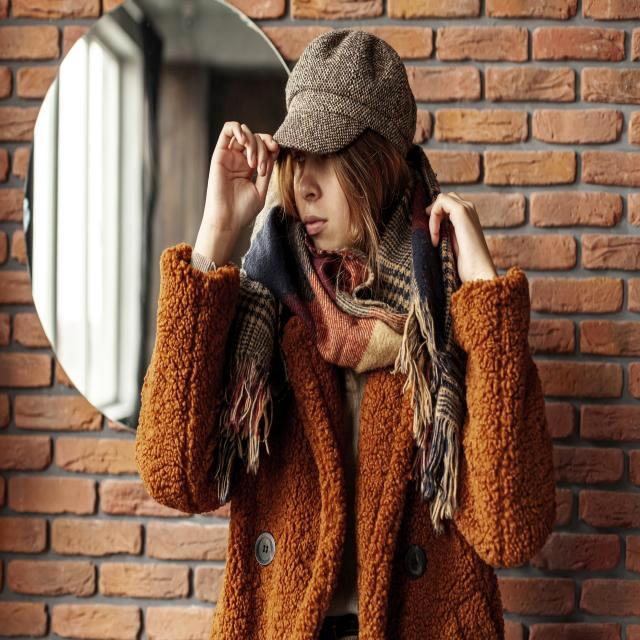no_hard_hat: (274, 30, 416, 157)
person: (136, 30, 554, 640)
